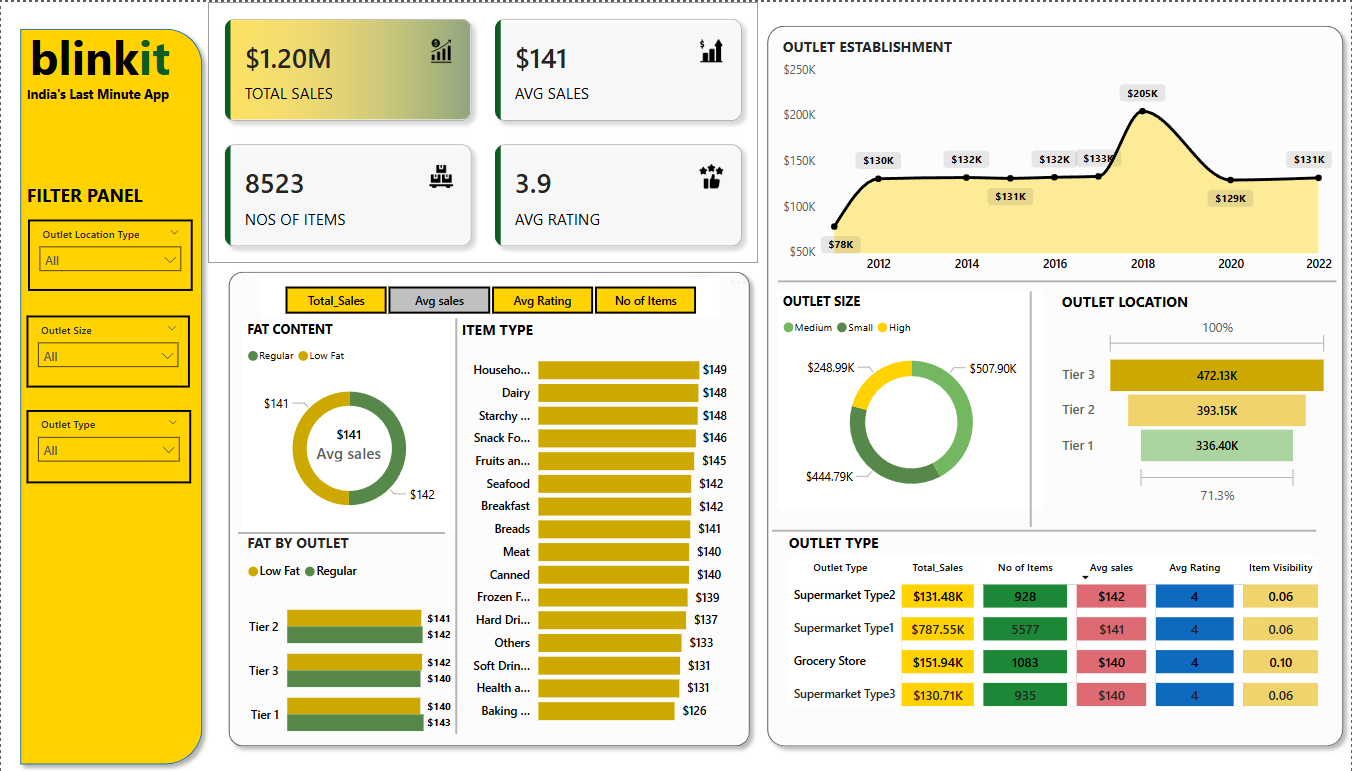

What the dashboard file says about the page in this screenshot:
{"tool":"powerbi","page":{"name":"Blinkit_d","canvas":[1400,800],"ordinal":0},"visuals":[{"type":"shape","box":[10.3,19,206.7,780.4],"z":0},{"type":"textbox","box":[24.1,19,170.6,89.6],"z":1000},{"type":"textbox","box":[22.4,81,170.6,55.1],"z":2000},{"type":"cardVisual","fields":{"Data":["BlinkIT Grocery Data.Total_Sales","BlinkIT Grocery Data.Average sales","BlinkIT Grocery Data.Number of Items","BlinkIT Grocery Data.Average Rating"]},"box":[214.5,0,570.5,270.5],"z":3000},{"type":"shape","box":[226.9,270.5,558,509.9],"z":4000},{"type":"donutChart","title":"FAT CONTENT","fields":{"Y":["BlinkIT Grocery Data.Avg sales"],"Category":["BlinkIT Grocery Data.Item Fat Content"]},"box":[250.3,329.5,220.7,220.7],"z":5000},{"type":"slicer","fields":{"Values":["Metrics.Metrics"]},"box":[268.7,287.7,475.5,39.6],"z":6000},{"type":"cardVisual","fields":{"Data":["BlinkIT Grocery Data.Avg sales"]},"box":[306.2,421.3,108.8,60.6],"z":7000},{"type":"clusteredBarChart","title":"FAT BY OUTLET","fields":{"Y":["BlinkIT Grocery Data.Avg sales"],"Category":["BlinkIT Grocery Data.Outlet Location Type"],"Series":["BlinkIT Grocery Data.Item Fat Content"]},"box":[250.3,550.3,220.7,230.1],"z":8000},{"type":"shape","box":[245.6,499,214.5,102.6],"z":9000},{"type":"shape","box":[359.1,328,225.4,430.6],"z":10000},{"type":"barChart","title":"ITEM TYPE","fields":{"Y":["BlinkIT Grocery Data.Avg sales"],"Category":["BlinkIT Grocery Data.Item Type"]},"box":[472,329,284.3,429],"z":11000},{"type":"shape","box":[785.6,15.5,615,764.9],"z":12000},{"type":"lineChart","title":"OUTLET ESTABLISHMENT","fields":{"Y":["BlinkIT Grocery Data.Total_Sales"],"Category":["BlinkIT Grocery Data.Outlet Establishment Year"]},"box":[804.5,36.2,578.8,253.2],"z":13000},{"type":"donutChart","title":"OUTLET SIZE","fields":{"Y":["BlinkIT Grocery Data.Total_Sales"],"Category":["BlinkIT Grocery Data.Outlet Size"]},"box":[804.5,299.8,275.6,225.7],"z":14000},{"type":"shape","box":[804.5,237.7,578.8,103.4],"z":15000},{"type":"shape","box":[954.4,300,225.4,244],"z":16000},{"type":"funnel","title":"OUTLET LOCATION","fields":{"Category":["BlinkIT Grocery Data.Outlet Location Type"],"Y":["Sum(BlinkIT Grocery Data.Sales)"]},"box":[1093.9,299.8,286,225.7],"z":17000},{"type":"shape","box":[799,499,564.3,97.9],"z":18000},{"type":"pivotTable","title":"OUTLET TYPE","fields":{"Rows":["BlinkIT Grocery Data.Outlet Type"],"Values":["BlinkIT Grocery Data.Total_Sales","BlinkIT Grocery Data.No of Items","BlinkIT Grocery Data.Avg sales","BlinkIT Grocery Data.Avg Rating","Avg(BlinkIT Grocery Data.Item Visibility)"]},"box":[811.4,550.3,564.3,214.5],"z":19000},{"type":"slicer","fields":{"Values":["BlinkIT Grocery Data.Outlet Location Type"]},"box":[27.6,225.7,170.6,74.1],"z":20000},{"type":"slicer","fields":{"Values":["BlinkIT Grocery Data.Outlet Size"]},"box":[26.4,324.9,169.4,74.6],"z":21000},{"type":"slicer","fields":{"Values":["BlinkIT Grocery Data.Outlet Type"]},"box":[25.8,422.1,170.6,75.8],"z":22000},{"type":"textbox","box":[22.4,182.6,170.6,43.1],"z":23000}]}

Visuals, with their boxes in screenshot pixels (x1, y1, x2, y2), scaled from the page's 1400x800 canvas onto the 1352x771 screenshot:
shape: bbox(10, 18, 210, 770)
textbox: bbox(23, 18, 188, 105)
textbox: bbox(22, 78, 186, 131)
cardVisual - BlinkIT Grocery Data.Total_Sales x BlinkIT Grocery Data.Average sales: bbox(207, 0, 758, 261)
shape: bbox(219, 261, 758, 752)
"FAT CONTENT" donutChart: bbox(242, 318, 455, 530)
slicer - Metrics.Metrics: bbox(259, 277, 719, 315)
cardVisual - BlinkIT Grocery Data.Avg sales: bbox(296, 406, 401, 464)
"FAT BY OUTLET" clusteredBarChart: bbox(242, 530, 455, 752)
shape: bbox(237, 481, 444, 580)
shape: bbox(347, 316, 564, 731)
"ITEM TYPE" barChart: bbox(456, 317, 730, 731)
shape: bbox(759, 15, 1351, 752)
"OUTLET ESTABLISHMENT" lineChart: bbox(777, 35, 1336, 279)
"OUTLET SIZE" donutChart: bbox(777, 289, 1043, 506)
shape: bbox(777, 229, 1336, 329)
shape: bbox(922, 289, 1139, 524)
"OUTLET LOCATION" funnel: bbox(1056, 289, 1333, 506)
shape: bbox(772, 481, 1317, 575)
"OUTLET TYPE" pivotTable: bbox(784, 530, 1329, 737)
slicer - BlinkIT Grocery Data.Outlet Location Type: bbox(27, 218, 191, 289)
slicer - BlinkIT Grocery Data.Outlet Size: bbox(25, 313, 189, 385)
slicer - BlinkIT Grocery Data.Outlet Type: bbox(25, 407, 190, 480)
textbox: bbox(22, 176, 186, 218)
